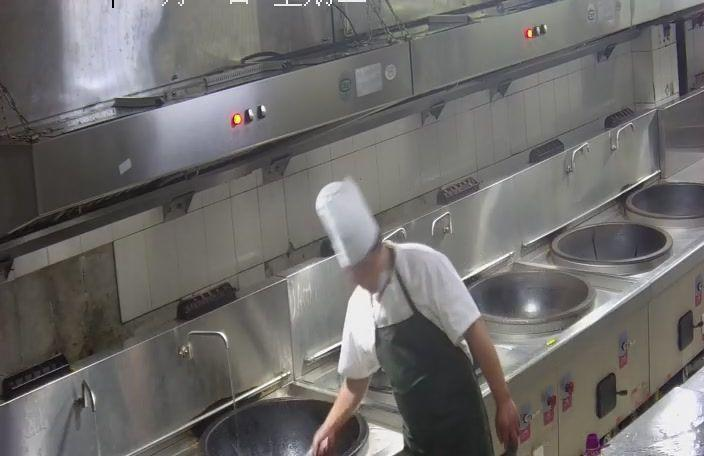mask: (353, 260, 387, 294)
